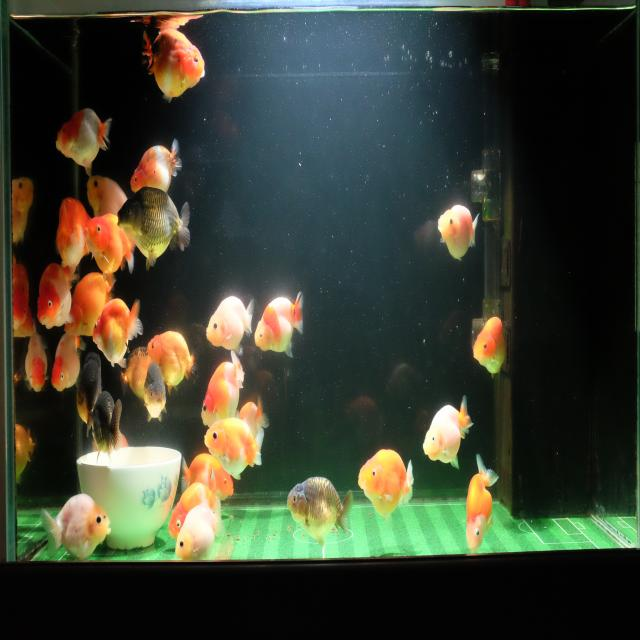Goldfish: (116, 186, 192, 273), (141, 20, 207, 106), (36, 492, 114, 562), (286, 473, 354, 549), (356, 442, 416, 522), (420, 393, 474, 475), (54, 105, 110, 182), (61, 265, 120, 337), (462, 448, 500, 558), (203, 418, 265, 482), (92, 296, 144, 371), (200, 349, 247, 429), (254, 286, 306, 358), (82, 213, 137, 280), (166, 470, 217, 540), (204, 294, 256, 358), (37, 257, 80, 332), (174, 498, 223, 562), (130, 136, 184, 193), (54, 193, 92, 273), (181, 450, 234, 507), (146, 330, 197, 387), (50, 327, 89, 398), (436, 201, 481, 262), (471, 312, 509, 382), (74, 349, 102, 440), (92, 388, 124, 464), (8, 171, 34, 247), (142, 358, 168, 432), (86, 173, 129, 216), (240, 391, 269, 442), (25, 332, 47, 398), (12, 258, 30, 334)
